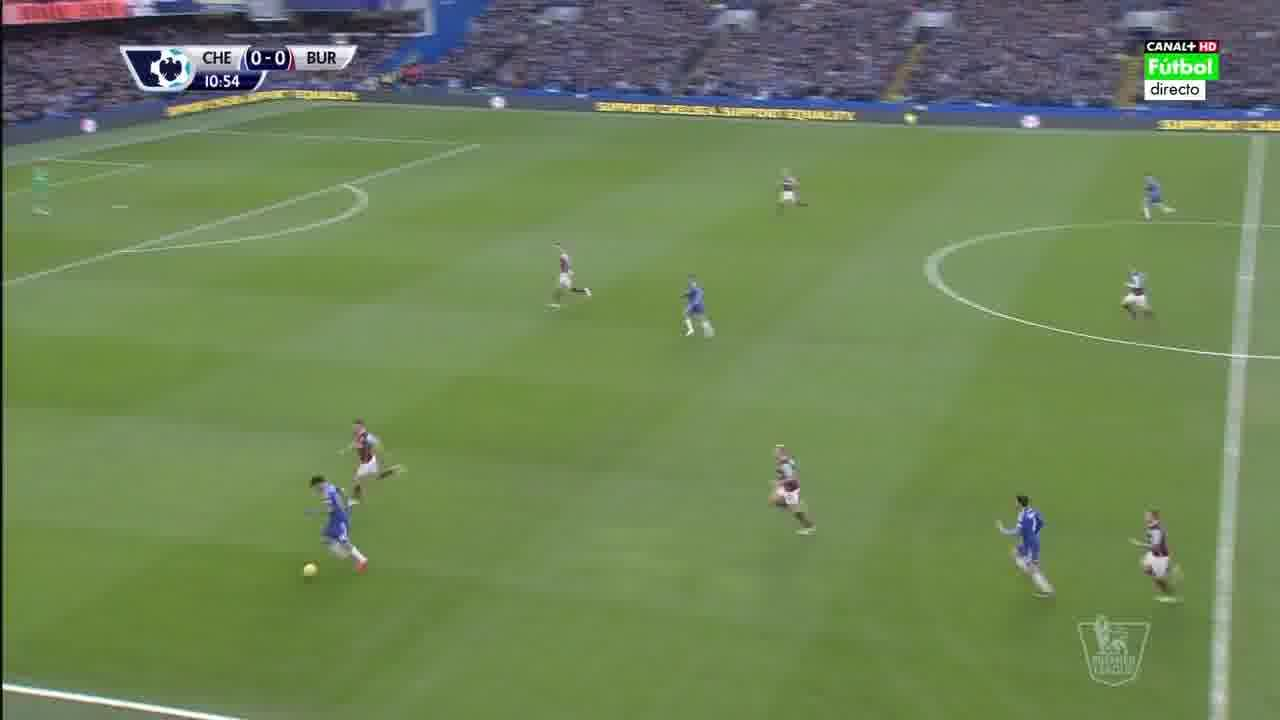football: (303, 560, 319, 575)
